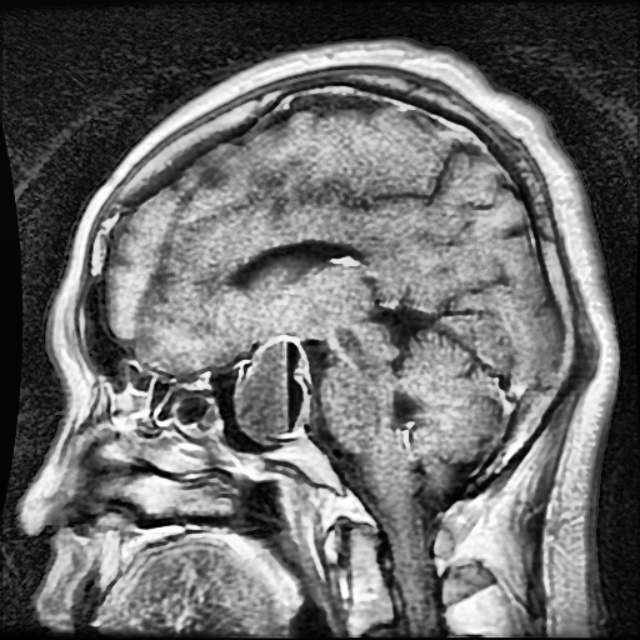Pituitary: (235, 343, 290, 444)
